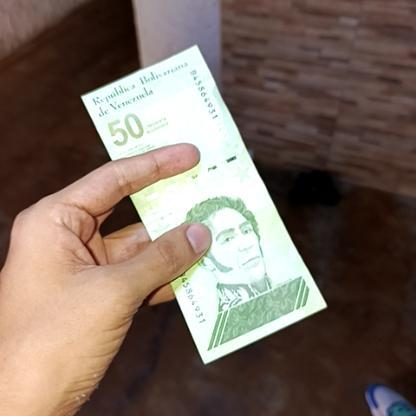fifty-front-vef: (78, 44, 330, 366)
